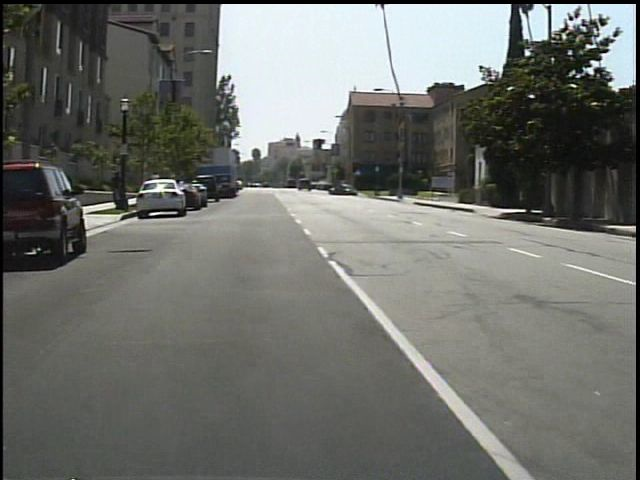person: (106, 167, 118, 206)
